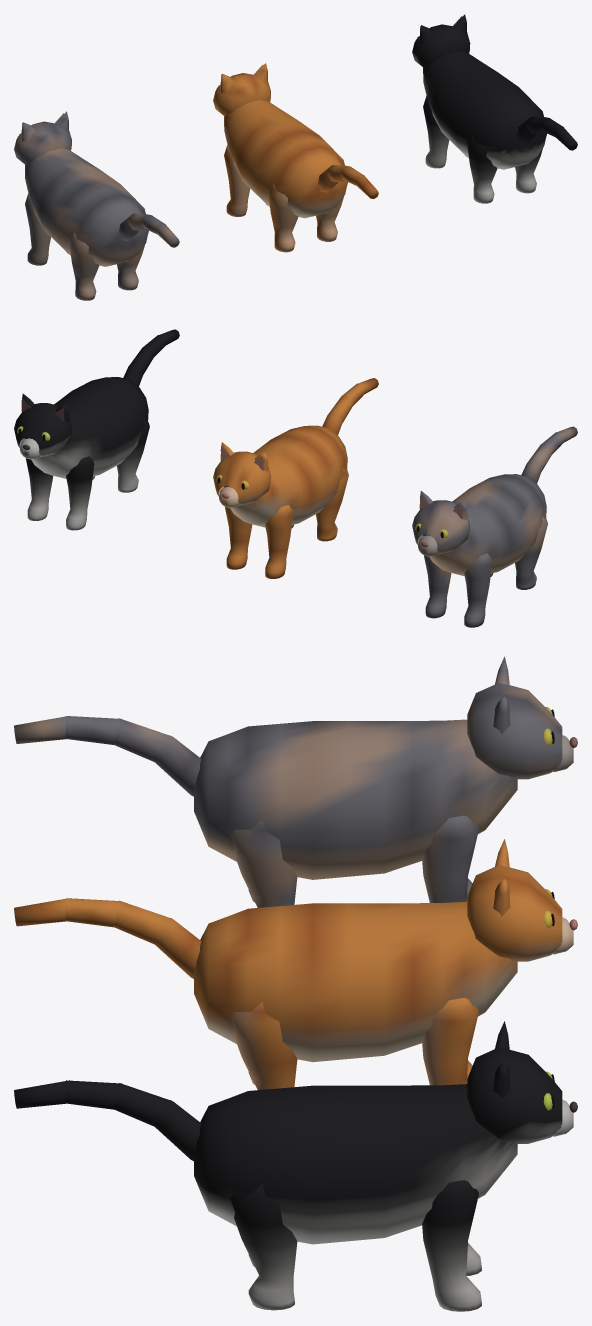
The model's file is cats.glb.
3 views of the same model, one above another, from view 1: azimuth 30°, elevation 25°; view 2: azimuth 150°, elevation 25°; view 3: azimuth 270°, elevation 25° (orthographic). The views are drawn at different scales.
Parts seen in each view (by area): view 1: ginger_body, tuxedo_body, main_body, tuxedo_head, main_head, ginger_head, ginger_leg_br, tuxedo_leg_br, main_leg_br, ginger_leg_fr, tuxedo_leg_fr, main_leg_fr (+3 smaller); view 2: ginger_body, tuxedo_body, main_body, ginger_head, main_head, tuxedo_head, main_leg_fr, tuxedo_leg_fr, ginger_leg_fr, ginger_leg_fl, main_leg_fl, tuxedo_leg_fl (+6 smaller); view 3: tuxedo_body, ginger_body, main_body, tuxedo_head, ginger_head, main_head, tuxedo_leg_fl, tuxedo_leg_bl, main_leg_bl, ginger_leg_bl, ginger_leg_fl, main_leg_fl (+12 smaller).
Part boxes in pixels (left/top/right/bottom): ginger_body: left=224, top=100, right=347, bottom=218; tuxedo_body: left=423, top=51, right=546, bottom=169; main_body: left=25, top=148, right=148, bottom=266; tuxedo_head: left=412, top=14, right=470, bottom=67; main_head: left=14, top=111, right=71, bottom=164; ginger_head: left=213, top=63, right=270, bottom=115; ginger_leg_br: left=268, top=183, right=298, bottom=252; tuxedo_leg_br: left=467, top=135, right=497, bottom=203; main_leg_br: left=69, top=232, right=99, bottom=300; ginger_leg_fr: left=224, top=144, right=250, bottom=216; tuxedo_leg_fr: left=423, top=95, right=449, bottom=168; main_leg_fr: left=25, top=192, right=50, bottom=265; ginger_body: left=224, top=425, right=347, bottom=527; tuxedo_body: left=25, top=377, right=148, bottom=478; main_body: left=423, top=474, right=546, bottom=575; ginger_head: left=213, top=442, right=270, bottom=507; main_head: left=412, top=491, right=470, bottom=556; tuxedo_head: left=14, top=393, right=71, bottom=459; main_leg_fr: left=464, top=553, right=492, bottom=627; tuxedo_leg_fr: left=66, top=456, right=94, bottom=530; ginger_leg_fr: left=265, top=505, right=293, bottom=578; ginger_leg_fl: left=225, top=507, right=252, bottom=569; main_leg_fl: left=424, top=555, right=451, bottom=618; tuxedo_leg_fl: left=25, top=458, right=53, bottom=520; tuxedo_body: left=194, top=1084, right=517, bottom=1244; ginger_body: left=194, top=901, right=517, bottom=1062; main_body: left=194, top=719, right=517, bottom=879; tuxedo_head: left=467, top=1021, right=577, bottom=1143; ginger_head: left=467, top=839, right=577, bottom=961; main_head: left=467, top=656, right=577, bottom=779; tuxedo_leg_fl: left=422, top=1180, right=481, bottom=1311; tuxedo_leg_bl: left=230, top=1184, right=297, bottom=1310; main_leg_bl: left=230, top=819, right=297, bottom=907; ginger_leg_bl: left=230, top=1002, right=297, bottom=1089; ginger_leg_fl: left=422, top=998, right=478, bottom=1085; main_leg_fl: left=422, top=815, right=478, bottom=902.
Size of the model in its own units: 1.44 by 0.3777 by 0.7846.
